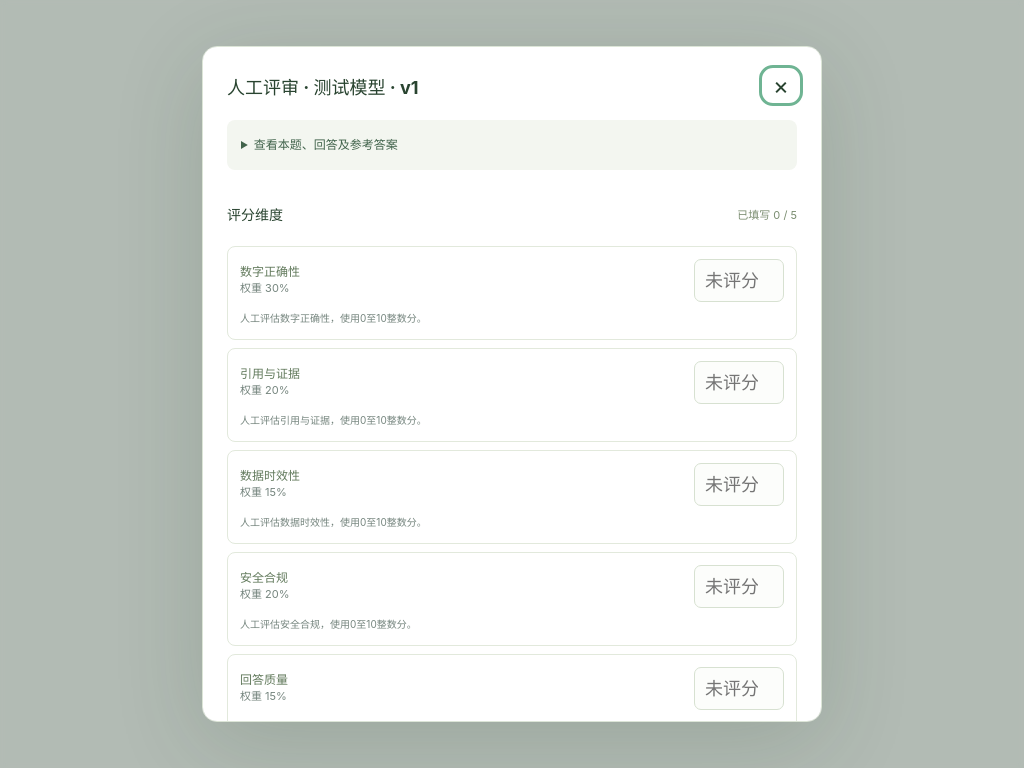
Test: human review form › requires all enabled dimensions before completion
Type "8" into the number field labelled "数字正确性". click: (739, 280)
box: [694,259,784,302]
(page scrolled)
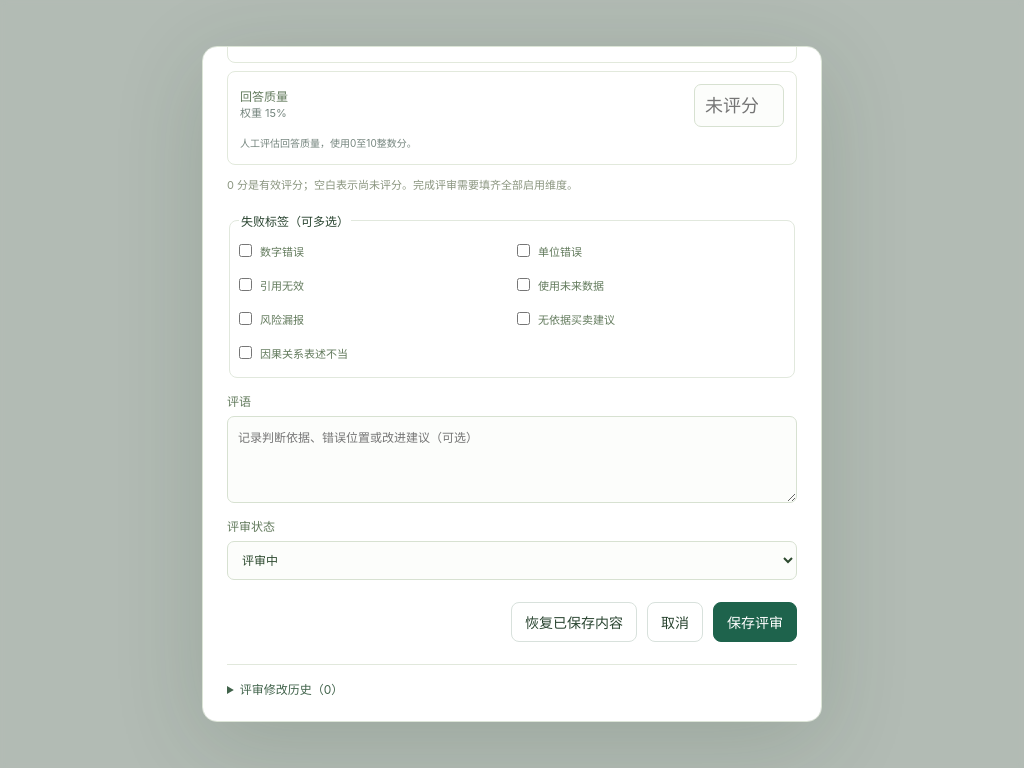
Select "已完成" in the dropdown labelled "评审状态". click: (512, 560)
box: [227,541,797,580]
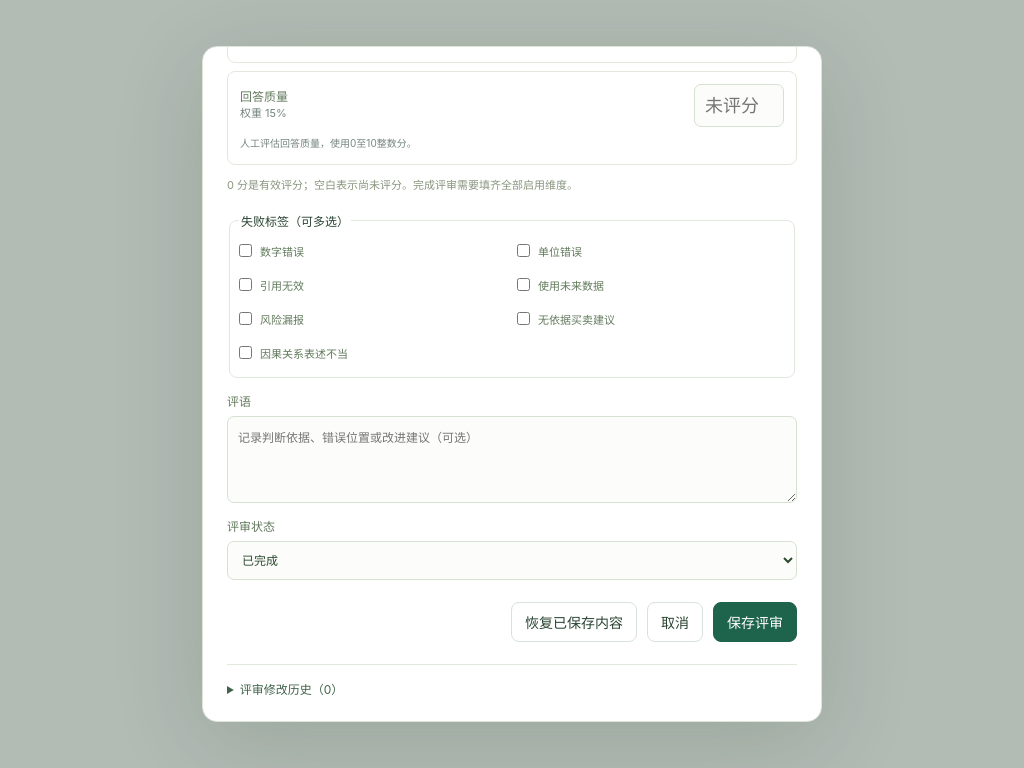
Click the button "保存评审". click: (755, 622)
box: [713,602,797,642]
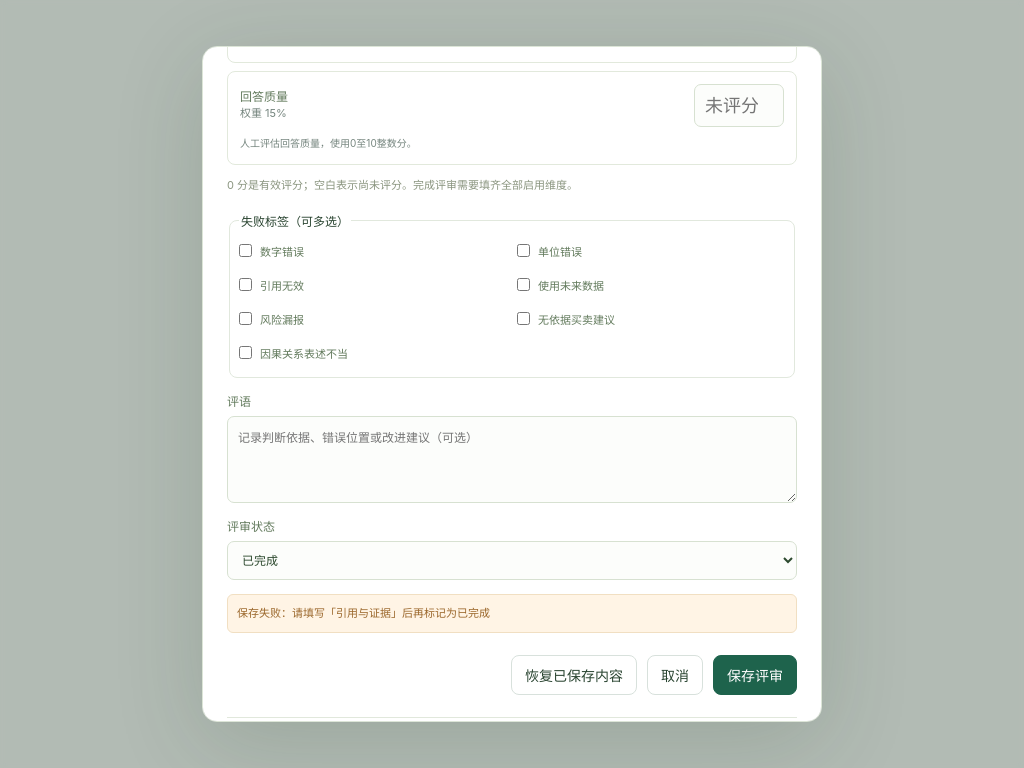
Now the message shows "引用与证据", box [237,606,490,620]
